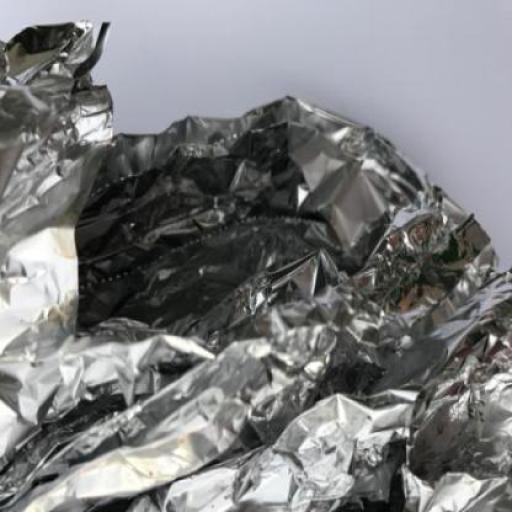metal: (0, 19, 511, 512)
